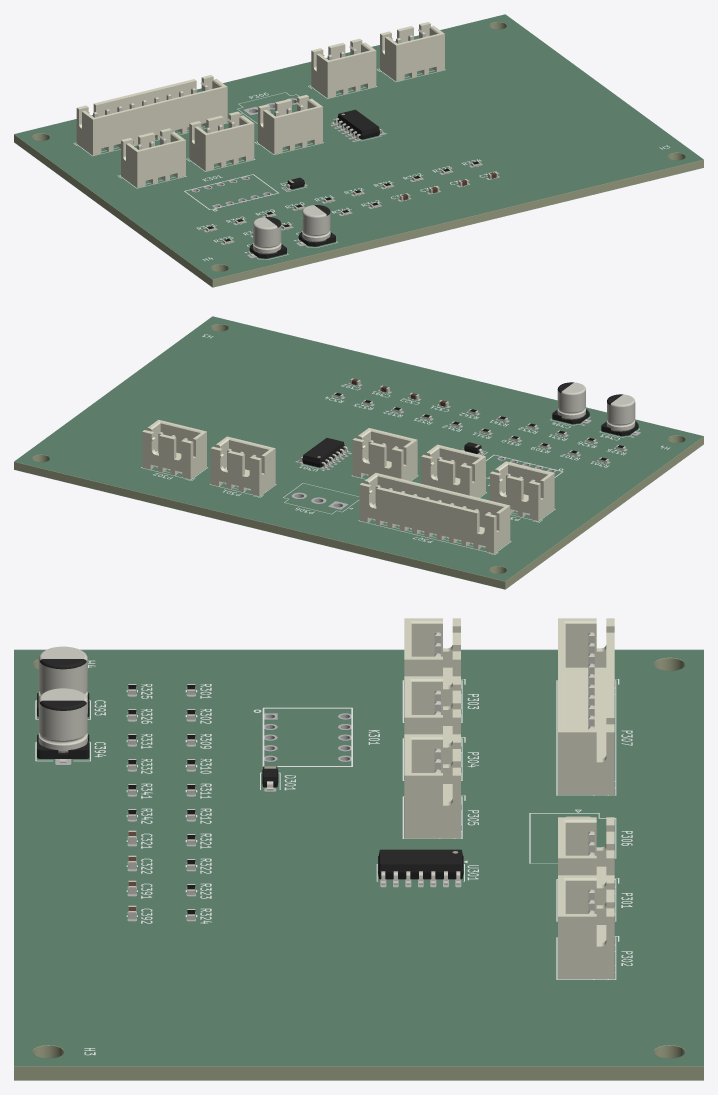
Rendered from crossfade-feedback-wet.glb.
3 views of the same model, one above another, from view 1: azimuth 30°, elevation 25°; view 2: azimuth 150°, elevation 25°; view 3: azimuth 270°, elevation 25° (orthographic). The views are drawn at different scales.
Parts seen in each view (by area): view 1: =>[0:1:1:20], =>[0:1:1:18], =>[0:1:1:9] (×5), =>[0:1:1:15], =>[0:1:1:13] (×2), =>[0:1:1:17], =>[0:1:1:16], =>[0:1:1:7], =>[0:1:1:19]; view 2: =>[0:1:1:20], =>[0:1:1:18], =>[0:1:1:9] (×5), =>[0:1:1:15], =>[0:1:1:13] (×2), =>[0:1:1:17], =>[0:1:1:16], =>[0:1:1:7], =>[0:1:1:19]; view 3: =>[0:1:1:20], =>[0:1:1:18], =>[0:1:1:9] (×5), =>[0:1:1:15], =>[0:1:1:17], =>[0:1:1:13] (×2), =>[0:1:1:7], =>[0:1:1:16].
Boxes of the visible parts, <box> form: =>[0:1:1:20]: <box>14,15,703,287</box>; =>[0:1:1:18]: <box>14,14,703,279</box>; =>[0:1:1:9] (×5): <box>121,22,444,187</box>; =>[0:1:1:15]: <box>76,75,227,155</box>; =>[0:1:1:13] (×2): <box>249,205,335,258</box>; =>[0:1:1:17]: <box>73,68,669,261</box>; =>[0:1:1:16]: <box>191,98,499,258</box>; =>[0:1:1:7]: <box>332,109,384,141</box>; =>[0:1:1:19]: <box>14,142,703,287</box>; =>[0:1:1:20]: <box>14,317,703,589</box>; =>[0:1:1:18]: <box>14,316,703,581</box>; =>[0:1:1:9] (×5): <box>142,419,554,520</box>; =>[0:1:1:15]: <box>359,473,510,553</box>; =>[0:1:1:13] (×2): <box>552,382,638,436</box>; =>[0:1:1:17]: <box>141,334,670,554</box>; =>[0:1:1:16]: <box>155,382,640,547</box>; =>[0:1:1:7]: <box>297,438,349,469</box>; =>[0:1:1:19]: <box>14,444,703,589</box>; =>[0:1:1:20]: <box>14,651,703,1080</box>; =>[0:1:1:18]: <box>14,649,703,1066</box>; =>[0:1:1:9] (×5): <box>404,618,614,978</box>; =>[0:1:1:15]: <box>558,618,614,794</box>; =>[0:1:1:17]: <box>35,660,632,1055</box>; =>[0:1:1:13] (×2): <box>37,646,89,762</box>; =>[0:1:1:7]: <box>378,849,463,884</box>; =>[0:1:1:16]: <box>55,686,590,921</box>.
Size of the model in its own units: 0.1 by 0.0104 by 0.07.
